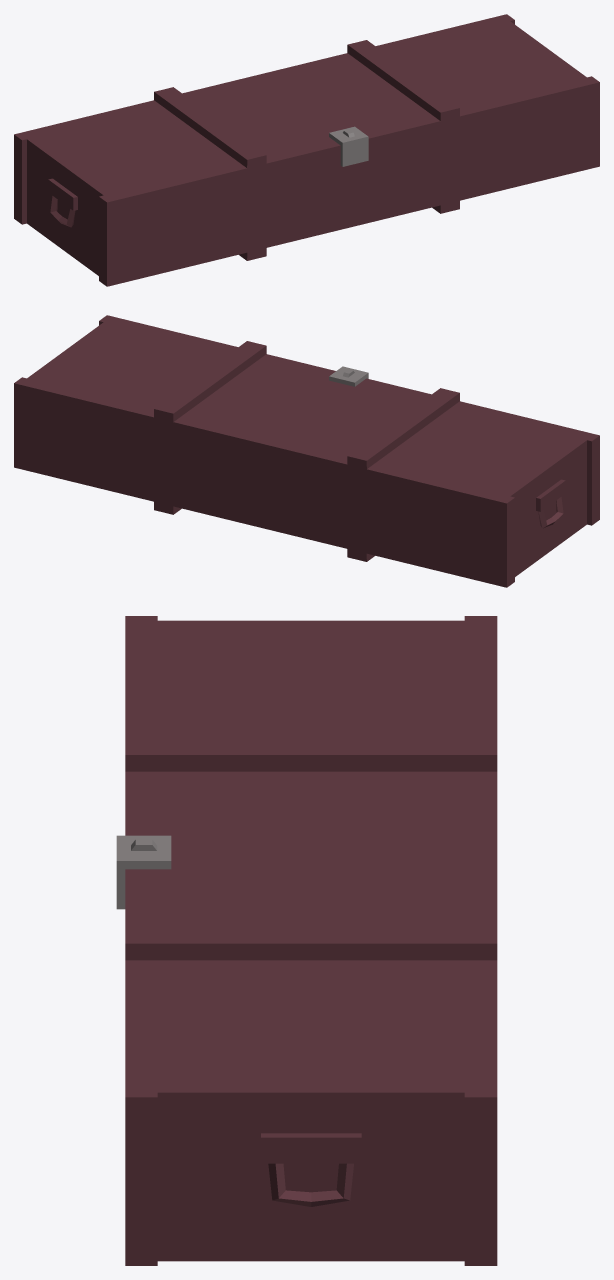
The model's file is crate-army-a.fbx.
The picture shows the model from 3 angles, top to bottom: view 1: azimuth 30°, elevation 25°; view 2: azimuth 150°, elevation 25°; view 3: azimuth 270°, elevation 25°; orthographic projection. The views are drawn at different scales.
Visible parts, largest first — view 1: crate-army-a; view 2: crate-army-a; view 3: crate-army-a.
Boxes of the visible parts, x1,y1,x2,y2 form: crate-army-a: (14,14,599,286); crate-army-a: (14,315,599,587); crate-army-a: (116,616,497,1265).
Bounding box in the file's own units: 1.23 × 0.24 × 0.4091.
